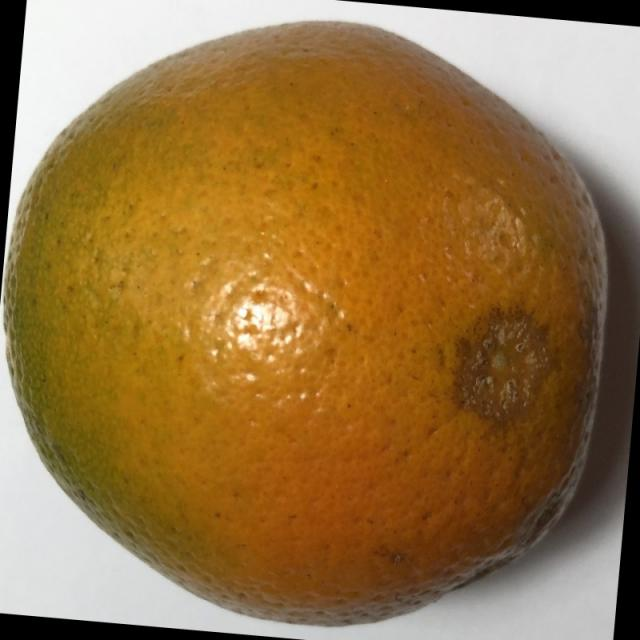canker: (4, 14, 629, 640)
